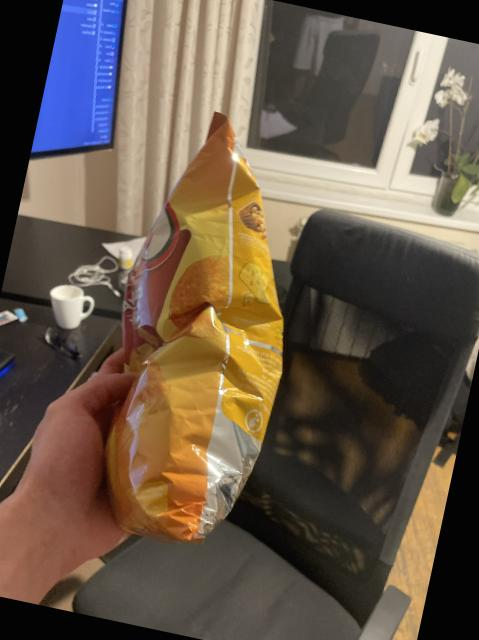Chio Cascaval 125g: (77, 107, 330, 556)
